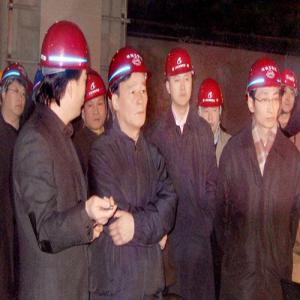red: (39, 23, 88, 118), (109, 46, 149, 131), (248, 59, 282, 132), (165, 47, 196, 110), (81, 70, 109, 131), (3, 65, 30, 122), (199, 78, 224, 135), (278, 70, 299, 117)
